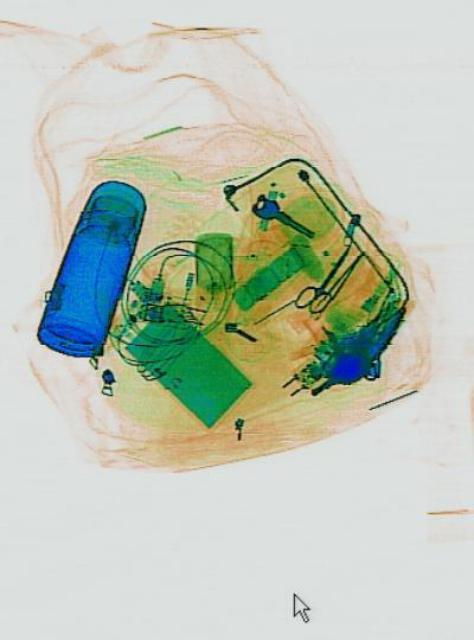Scissors: (287, 233, 358, 324)
